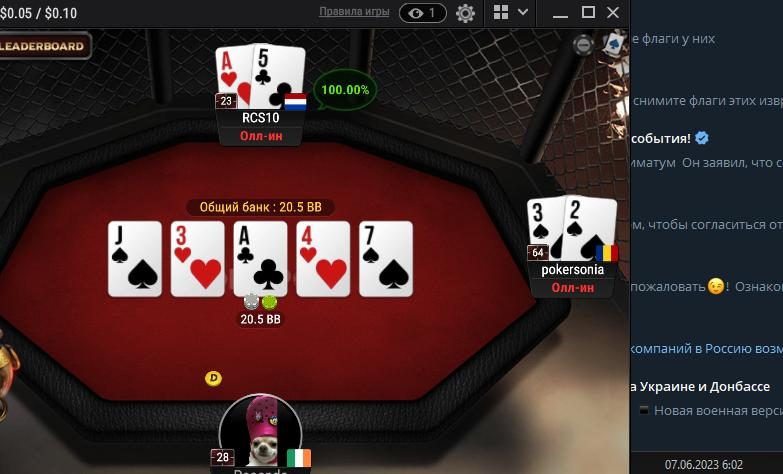2s: (563, 196, 617, 259)
3h: (172, 221, 225, 296)
3s: (527, 196, 564, 260)
4h: (296, 223, 349, 295)
5c: (253, 43, 304, 109)
7s: (359, 222, 413, 296)
Ac: (235, 223, 287, 295)
Ah: (210, 45, 253, 111)
Js: (109, 222, 161, 295)
